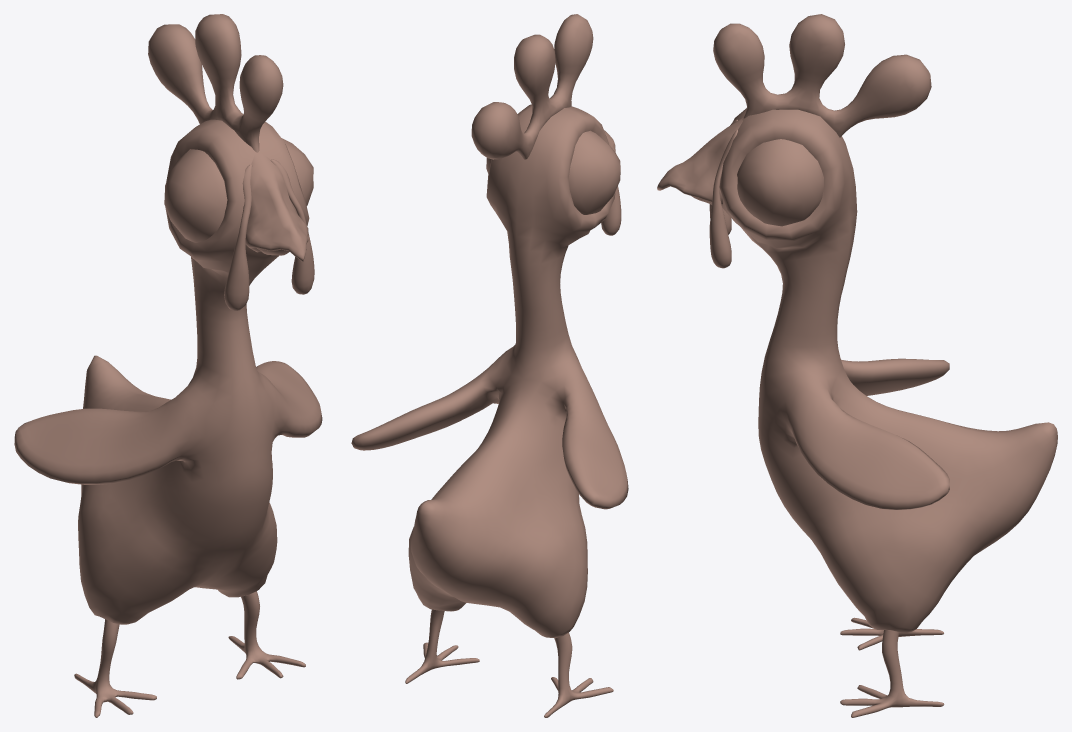
Rendered from Poulet.fbx.
3 views of the same model, side by side, from view 1: azimuth 30°, elevation 25°; view 2: azimuth 150°, elevation 25°; view 3: azimuth 270°, elevation 25° (orthographic). The views are drawn at different scales.
Parts seen in each view (by area): view 1: PouletFinal; view 2: PouletFinal; view 3: PouletFinal.
Part boxes in pixels (x1,y1,x2,y2): PouletFinal: (14, 14, 322, 717); PouletFinal: (351, 14, 628, 717); PouletFinal: (657, 14, 1057, 717).
Size of the model in its own units: 21.6 by 49.79 by 27.58.
